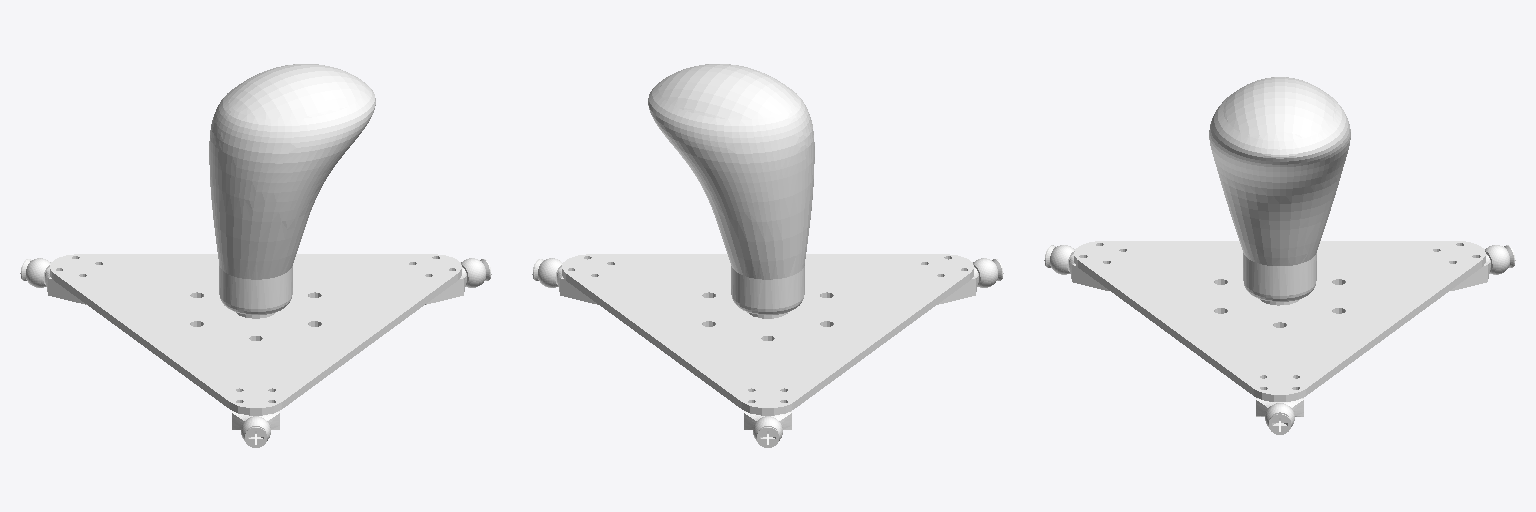
URDF robot description (mobile):
<?xml version="1.0"?>
<!-- This URDF was automatically created by SolidWorks to URDF Exporter! Originally created by Stephen Brawner (brawner@gmail.com) 
     Commit Version: 1.6.0-1-g15f4949  Build Version: 1.6.7594.29634
     For more information, please see http://wiki.ros.org/sw_urdf_exporter -->
     
<robot name="mobile">
   
  <link name ="World_Link" />

  <link name="MB_Link">
    <visual>
    <origin xyz="0 0 0" rpy="0 0 0" />
      <geometry>
        <mesh filename="package://rp3ba/meshes/MB_Link.STL" />
      </geometry>
      <material name="">
        <color rgba="1 1 1 0.5" />
      </material>
    </visual>
  </link>

  <link name="EF_Link">
    <visual>
    <origin xyz="0 0 0" rpy="-1.5708 0 0" />
      <geometry>
        <mesh filename="package://rp3ba/meshes/Mango_Link.STL" />
      </geometry>
      <material name="">
        <color rgba="1 1 1 0.5" />
      </material>
    </visual>
  </link>

  <joint name="MB_Joint" type="floating">
    <parent link="World_Link" />
    <child link="MB_Link" /> 
  </joint>
    
  <link name ="AP1_Link" />
  <link name ="AP2_Link" />
  <link name ="AP3_Link" />
  <link name ="AP2a_Link" />
  <link name ="AP3a_Link" />
  
  <joint name="AP1_Joint" type="fixed">
    <origin xyz="0.0916 0  0" rpy="0 0 0" />
    <parent link="MB_Link" />
    <child link="AP1_Link" />
  </joint>
  
  <joint name="AP2a_Joint" type="fixed">
    <origin xyz="0 0 0" rpy="0 0 2.0944" />
    <parent link="MB_Link" />
    <child link="AP2a_Link" /> 
  </joint>
  
  <joint name="AP2_Joint" type="fixed">
    <origin xyz="0.0916 0  0" rpy="0 0 0" />
    <parent link="AP2a_Link" />
    <child link="AP2_Link" />
  </joint>
  
  <joint name="AP3a_Joint" type="fixed">
    <origin xyz="0 0 0" rpy="0 0 -2.0944" />
    <parent link="MB_Link" />
    <child link="AP3a_Link" /> 
  </joint>
  
  <joint name="AP3_Joint" type="fixed">
    <origin xyz="0.0916 0  0" rpy="0 0 0" />
    <parent link="AP3a_Link" />
    <child link="AP3_Link" />
  </joint>
  
  <joint name="EF_Joint" type="fixed">
    <origin xyz="0 0  0" rpy="0 0 0" />
    <parent link="MB_Link" />
    <child link="EF_Link" />
  </joint>
  
</robot>

--- Render facts (derived) ---
The picture shows the robot from 3 angles, left to right: view 1: azimuth 30°, elevation 25°; view 2: azimuth 150°, elevation 25°; view 3: azimuth 270°, elevation 25°; orthographic projection.
Model mobile with 8 links and 7 joints (6 fixed, 1 floating), rooted at World_Link, posed every joint at zero.
Links seen in each view (by area): view 1: MB_Link, EF_Link; view 2: MB_Link, EF_Link; view 3: MB_Link, EF_Link.
Boxes of the visible links, box(x1,y1,x2,y2) form: MB_Link: box(20, 254, 491, 447); EF_Link: box(209, 64, 375, 318); MB_Link: box(532, 254, 1003, 447); EF_Link: box(648, 64, 814, 318); MB_Link: box(1044, 241, 1515, 434); EF_Link: box(1209, 77, 1350, 305).
Size in the robot's own frame: 0.1501 by 0.1733 by 0.1044 metres.
Meshes: 2 distinct files referenced, 2 mesh visuals loaded (2 binary STL).
